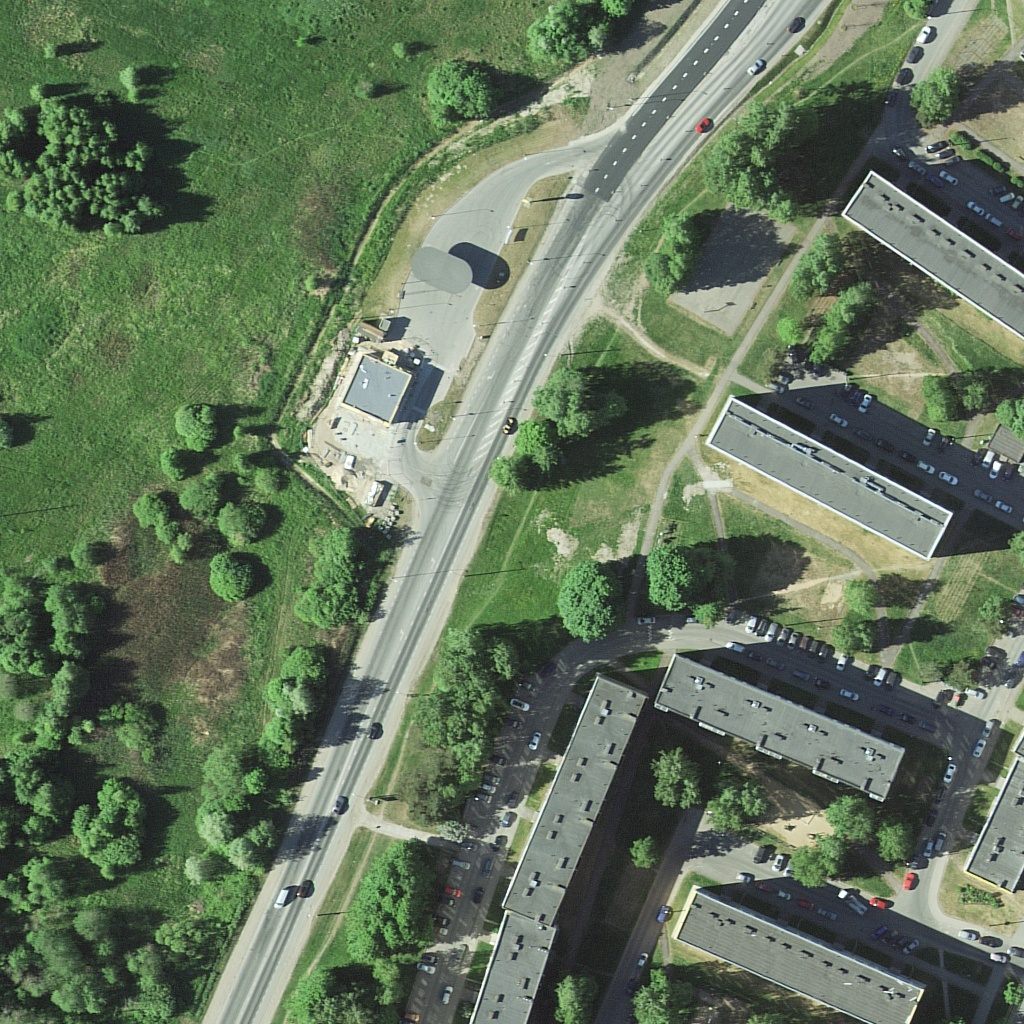building: (709, 398, 955, 563), (658, 651, 902, 808), (504, 676, 642, 922), (841, 170, 1024, 343), (675, 891, 911, 1024), (473, 908, 561, 1024), (969, 769, 1024, 898), (342, 353, 412, 421)
